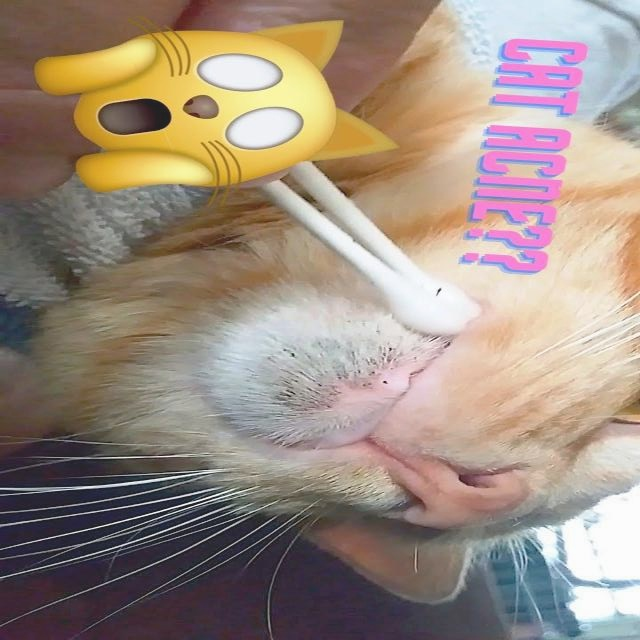acne: (240, 336, 404, 420)
